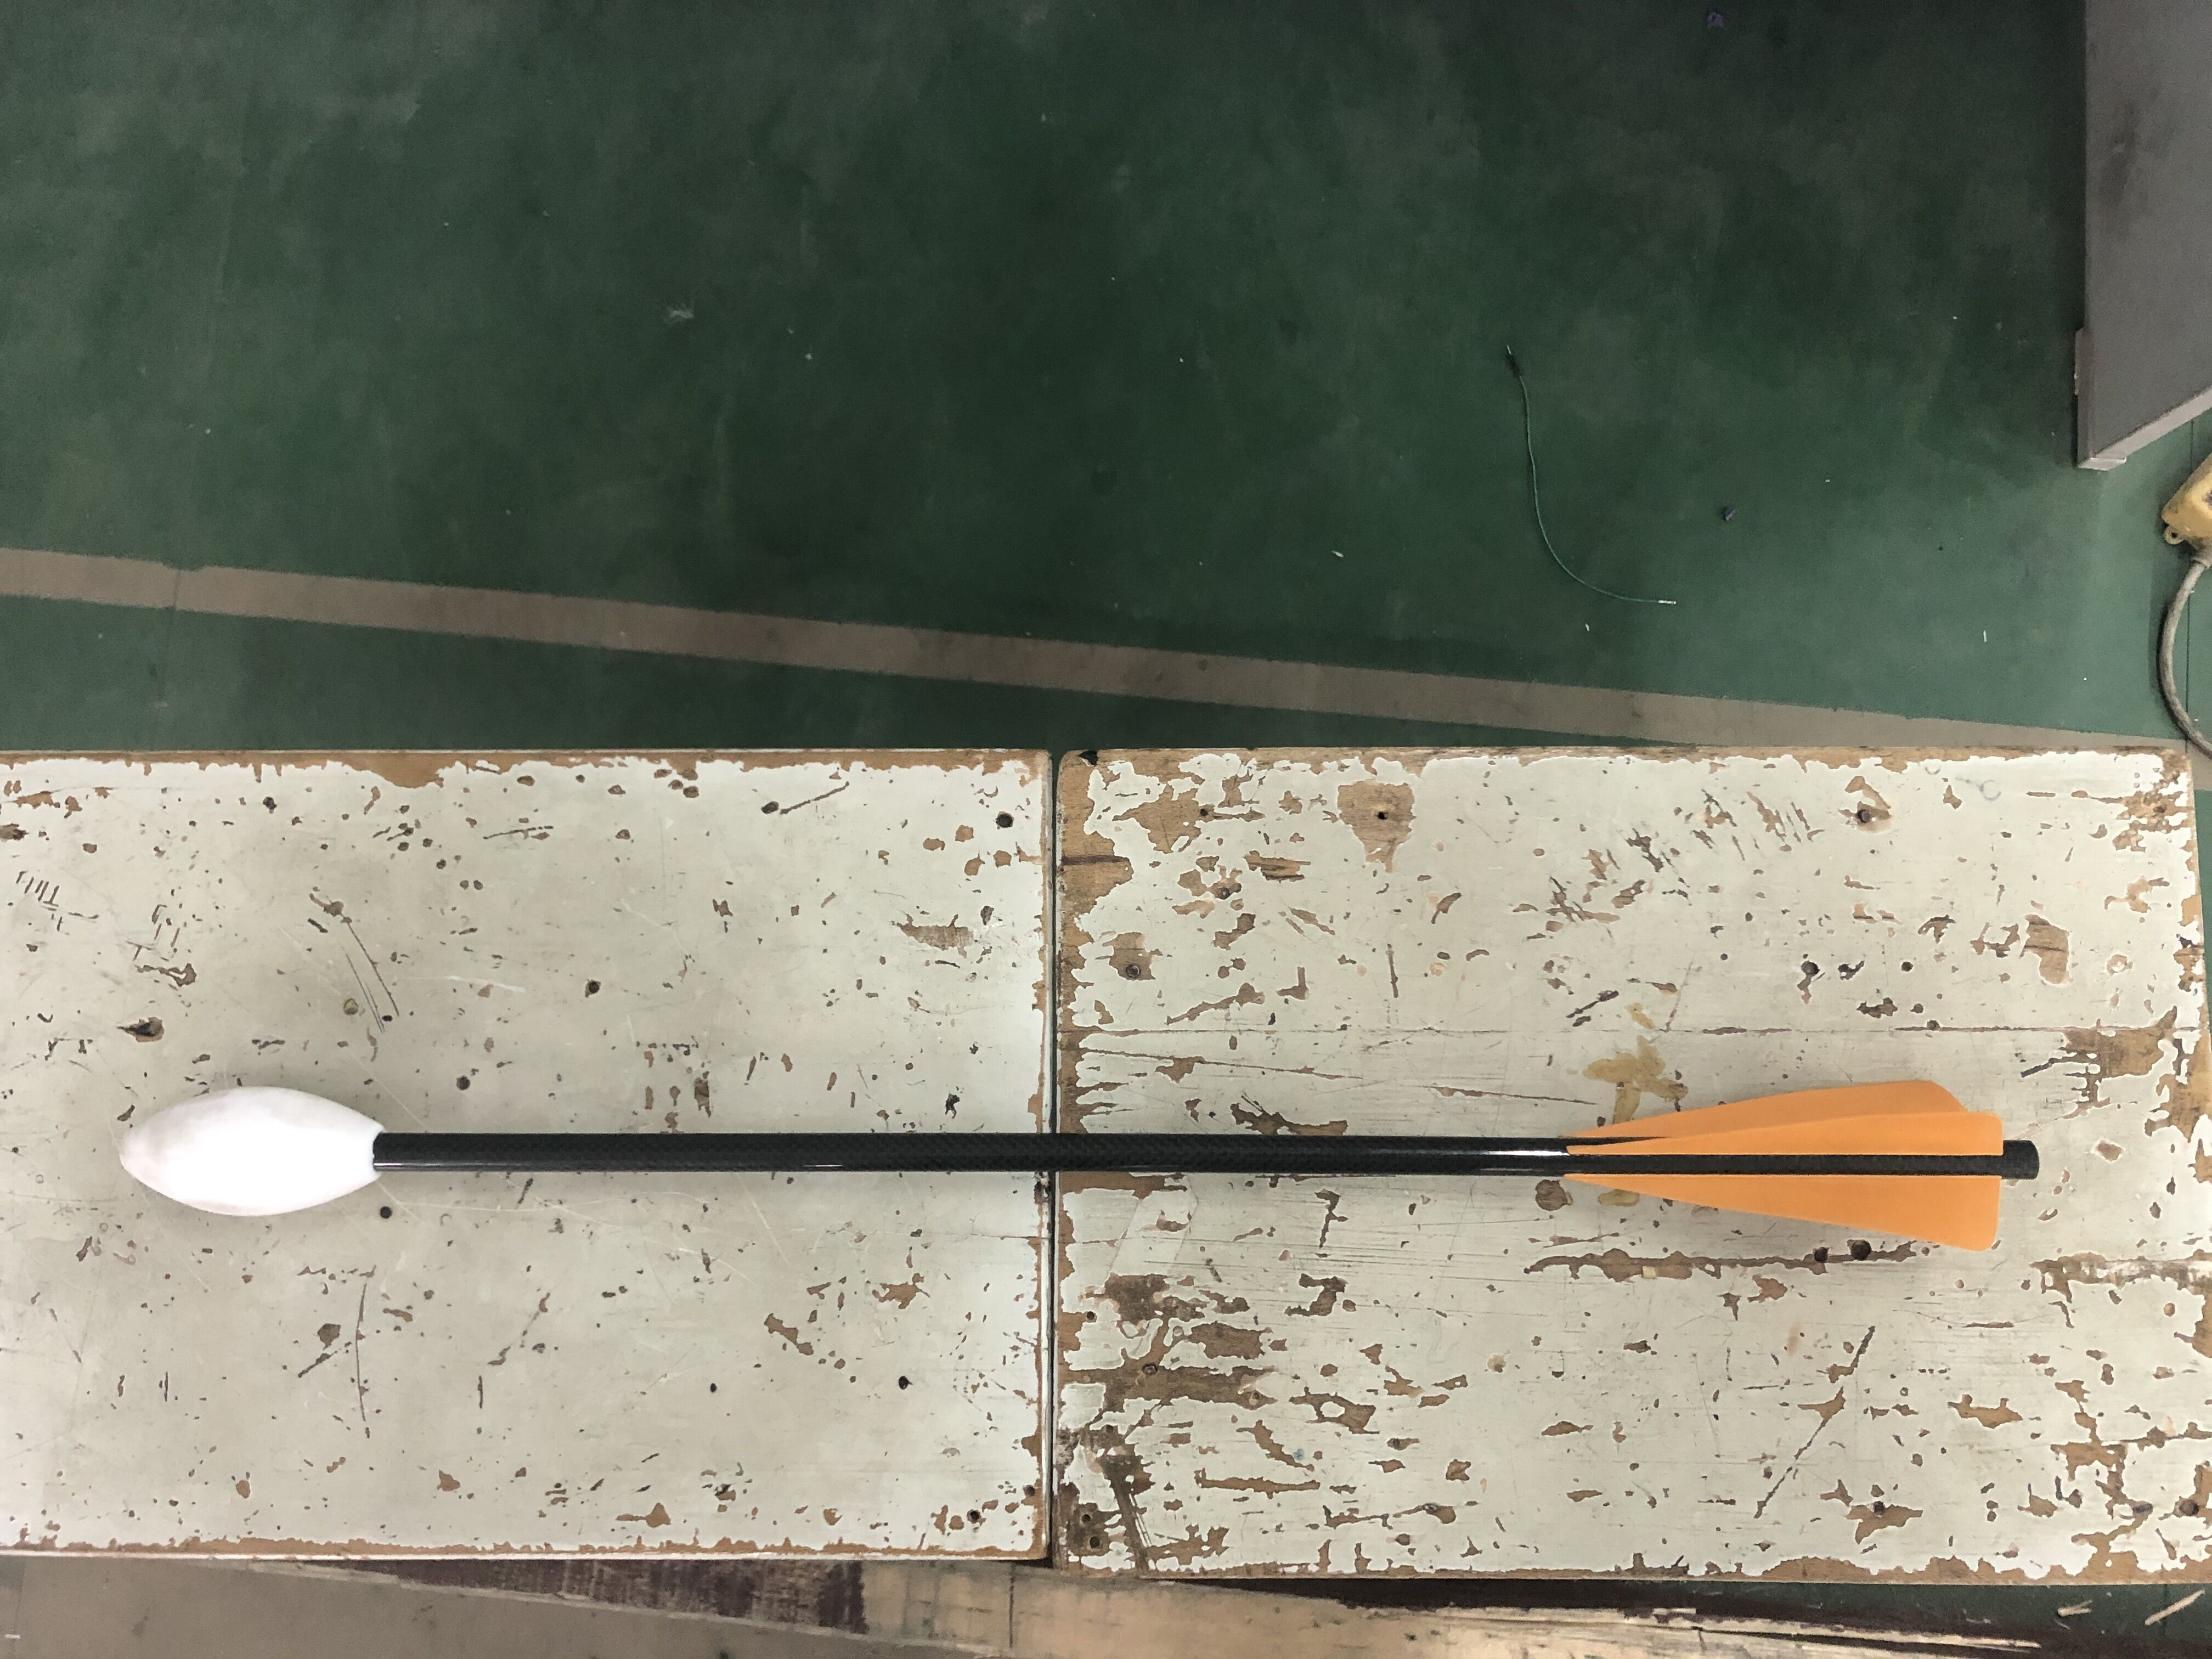arrow: (113, 1073, 2047, 1260)
arrowFront: (113, 1079, 394, 1220)
